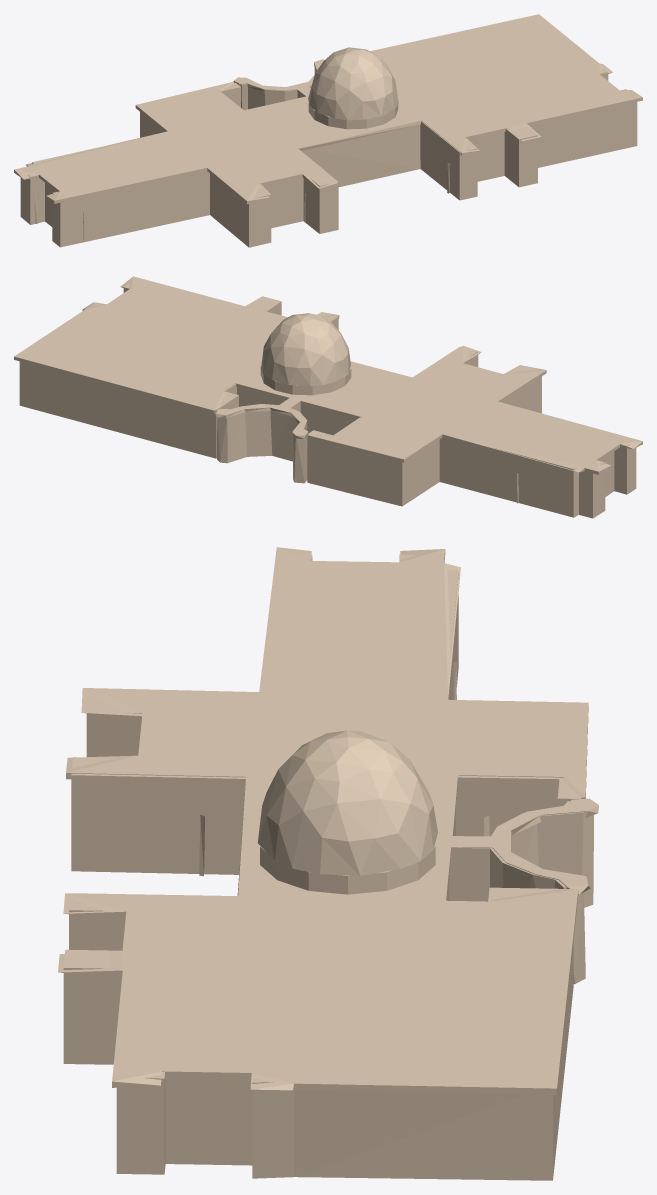
File: north-block_lod1.glb
3 renders of one model, top to bottom at view 1: azimuth 30°, elevation 25°; view 2: azimuth 150°, elevation 25°; view 3: azimuth 270°, elevation 25°, orthographic. The views are drawn at different scales.
Parts seen in each view (by area): view 1: north-block; view 2: north-block; view 3: north-block.
Part boxes in pixels (x1=…): north-block: x1=14, y1=14, x2=642, y2=247; north-block: x1=14, y1=276, x2=642, y2=518; north-block: x1=58, y1=547, x2=598, y2=1180.
Bounding box in the file's own units: 362 × 67.48 × 153.
